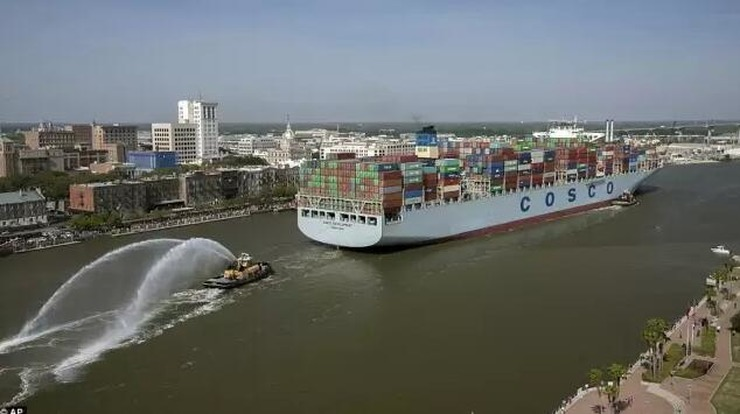Cargoship: (292, 123, 653, 252)
otherboat: (204, 250, 275, 298), (610, 188, 641, 207)
